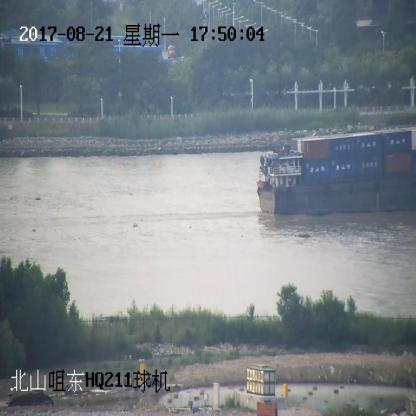Container Ship: (257, 128, 415, 215)
